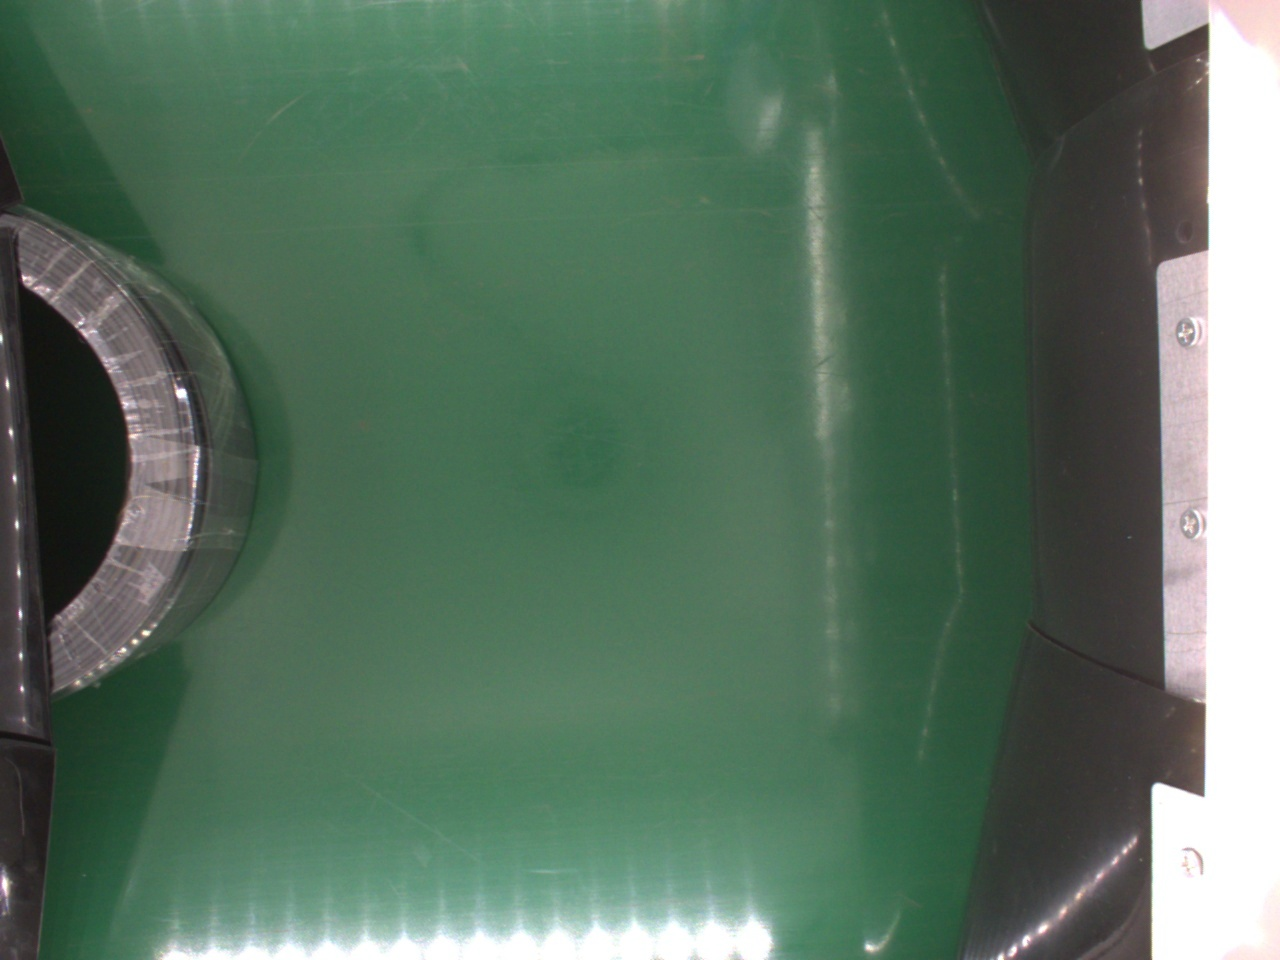black: (11, 208, 255, 704)
